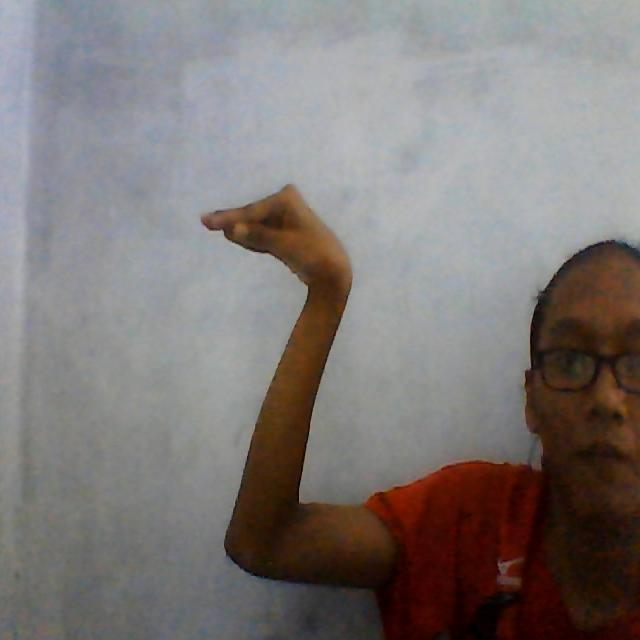Z: (190, 175, 360, 592)
